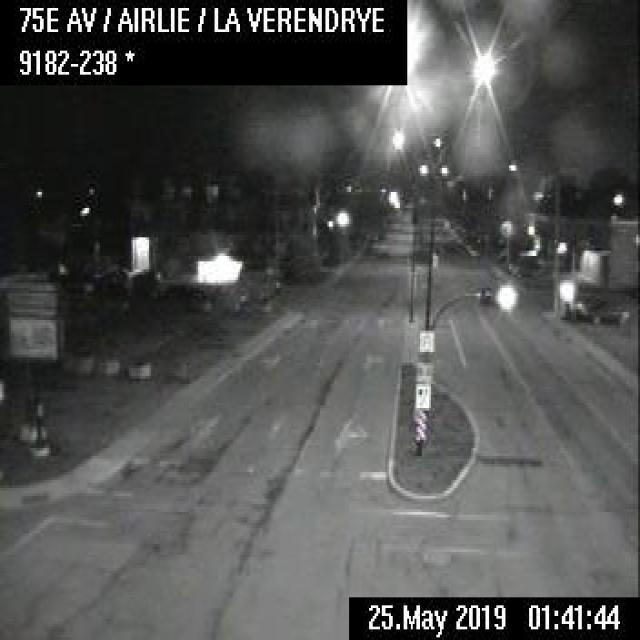vehicle: (572, 291, 630, 326)
